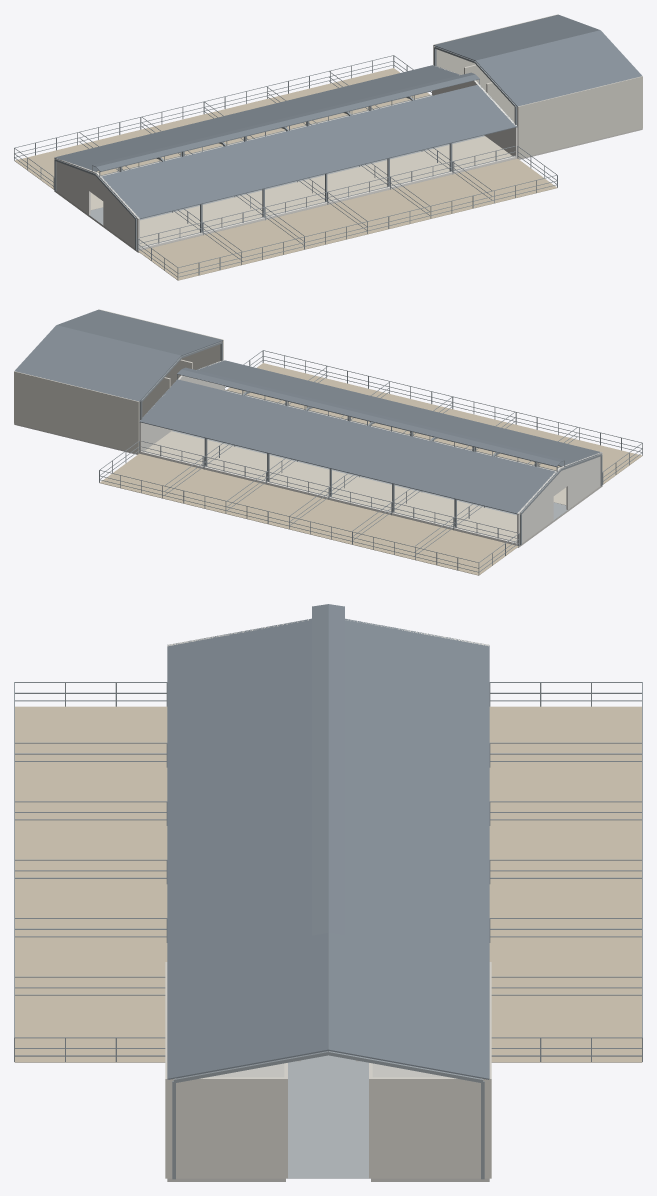
The model's file is ahr-07.glb.
3 renders of one model, top to bottom at view 1: azimuth 30°, elevation 25°; view 2: azimuth 150°, elevation 25°; view 3: azimuth 270°, elevation 25°, orthographic. The views are drawn at different scales.
Parts seen in each view (by area): view 1: AHR07_ROOF_LEFT, AHR07_FEED_STORE_ROOF_LEFT, AHR07_ROOF_RIGHT, AHR07_FEED_STORE_WALL_1_0, AHR07_FEED_STORE_ROOF_RIGHT, AHR07_OPEN_YARD_01, AHR07_OPEN_YARD_06, AHR07_OPEN_YARD_05, AHR07_OPEN_YARD_04, AHR07_OPEN_YARD_02, AHR07_OPEN_YARD_03, AHR07_RIDGE_VENT_ROOF_0 (+30 smaller); view 2: AHR07_ROOF_RIGHT, AHR07_FEED_STORE_ROOF_RIGHT, AHR07_ROOF_LEFT, AHR07_FEED_STORE_WALL_2_1, AHR07_FEED_STORE_ROOF_LEFT, AHR07_OPEN_YARD_07, AHR07_OPEN_YARD_12, AHR07_OPEN_YARD_11, AHR07_OPEN_YARD_10, AHR07_OPEN_YARD_08, AHR07_OPEN_YARD_09, AHR07_RIDGE_VENT_ROOF_1 (+30 smaller); view 3: AHR07_ROOF_LEFT, AHR07_ROOF_RIGHT, AHR07_FEED_STORE_ROOF_LEFT, AHR07_FEED_STORE_ROOF_RIGHT, AHR07_FEED_STORE_END_2, AHR07_FEED_STORE_END_1, AHR07_FEED_LANE_EXTENSION, AHR07_OPEN_YARD_01, AHR07_OPEN_YARD_07, AHR07_OPEN_YARD_06, AHR07_OPEN_YARD_12, AHR07_OPEN_YARD_03 (+11 smaller).
Part boxes in pixels (<box>): AHR07_ROOF_LEFT: <box>100,85,517,219</box>; AHR07_FEED_STORE_ROOF_LEFT: <box>476,30,641,106</box>; AHR07_ROOF_RIGHT: <box>55,65,460,171</box>; AHR07_FEED_STORE_WALL_1_0: <box>517,76,642,158</box>; AHR07_FEED_STORE_ROOF_RIGHT: <box>433,14,599,60</box>; AHR07_OPEN_YARD_01: <box>138,235,242,280</box>; AHR07_OPEN_YARD_06: <box>453,158,556,203</box>; AHR07_OPEN_YARD_05: <box>391,174,492,218</box>; AHR07_OPEN_YARD_04: <box>328,189,429,234</box>; AHR07_OPEN_YARD_02: <box>203,220,304,264</box>; AHR07_OPEN_YARD_03: <box>266,205,367,249</box>; AHR07_RIDGE_VENT_ROOF_0: <box>96,74,479,171</box>; AHR07_ROOF_RIGHT: <box>139,379,557,514</box>; AHR07_FEED_STORE_ROOF_RIGHT: <box>15,325,180,401</box>; AHR07_ROOF_LEFT: <box>197,360,601,467</box>; AHR07_FEED_STORE_WALL_2_1: <box>14,371,139,453</box>; AHR07_FEED_STORE_ROOF_LEFT: <box>57,309,222,355</box>; AHR07_OPEN_YARD_07: <box>414,530,518,575</box>; AHR07_OPEN_YARD_12: <box>100,453,203,498</box>; AHR07_OPEN_YARD_11: <box>164,469,265,513</box>; AHR07_OPEN_YARD_10: <box>227,484,328,529</box>; AHR07_OPEN_YARD_08: <box>352,515,453,559</box>; AHR07_OPEN_YARD_09: <box>289,500,390,544</box>; AHR07_RIDGE_VENT_ROOF_1: <box>177,369,560,466</box>; AHR07_ROOF_LEFT: <box>167,618,311,961</box>; AHR07_ROOF_RIGHT: <box>345,618,489,961</box>; AHR07_FEED_STORE_ROOF_LEFT: <box>167,933,328,1079</box>; AHR07_FEED_STORE_ROOF_RIGHT: <box>328,933,489,1079</box>; AHR07_FEED_STORE_END_2: <box>371,1077,489,1178</box>; AHR07_FEED_STORE_END_1: <box>167,1077,285,1178</box>; AHR07_FEED_LANE_EXTENSION: <box>286,1061,370,1178</box>; AHR07_OPEN_YARD_01: <box>15,706,167,767</box>; AHR07_OPEN_YARD_07: <box>489,706,641,767</box>; AHR07_OPEN_YARD_06: <box>14,1001,165,1062</box>; AHR07_OPEN_YARD_12: <box>491,1001,642,1062</box>; AHR07_OPEN_YARD_03: <box>15,825,167,884</box>.
Bounding box in the file's own units: 61.33 × 7.99 × 34.42.
